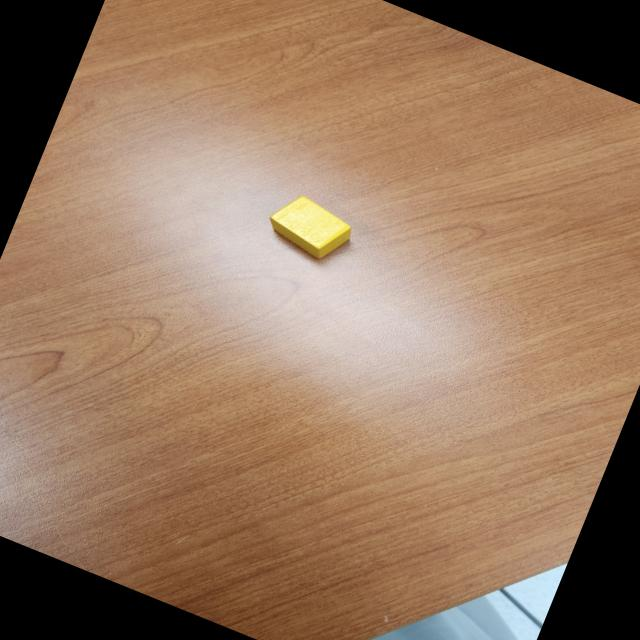yellow: (260, 187, 360, 268)
